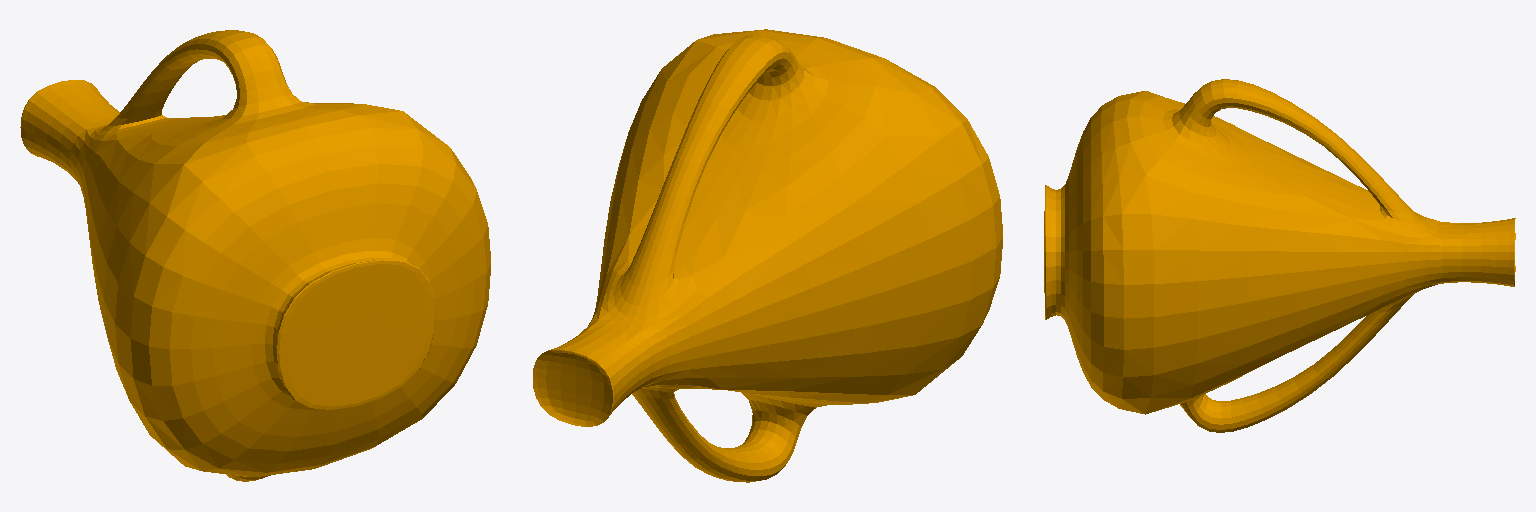
The robot description file, URDF, robot "9":
<?xml version="1.0" ?>
<robot name="9">
  <link name="body">
    <visual>
      <geometry>
        <mesh filename="../shapes/9.obj"/>
      </geometry>
    </visual>
    <collision>
      <geometry>
        <mesh filename="../shapes/9.obj"/>
      </geometry>
    </collision>
  </link>
</robot>

--- Facts derived from the render (not from the file) ---
Views: 3 orthographic renders of the robot side by side, from view 1: azimuth 30°, elevation 25°; view 2: azimuth 150°, elevation 25°; view 3: azimuth 270°, elevation 25°.
Robot: 9 — 1 links, 0 joints (none); root link body; default pose: every joint at zero.
Visible links, largest first — view 1: body; view 2: body; view 3: body.
Boxes of the visible links, left/top/right/bottom form: body: left=20, top=30, right=490, bottom=481; body: left=533, top=29, right=1002, bottom=482; body: left=1044, top=79, right=1515, bottom=432.
Bounding box of the posed robot: 7.7 × 11.17 × 9.07 m (x, y, z).
1 mesh visuals loaded from 1 distinct referenced files (1 OBJ).